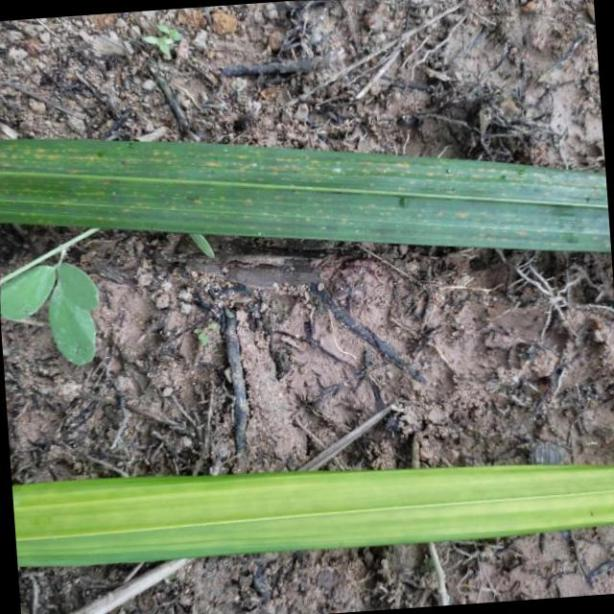nitrogen: (3, 136, 614, 253), (14, 465, 614, 571)
